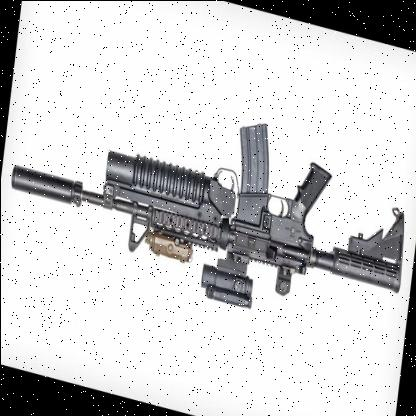rifle: (2, 64, 416, 351)
